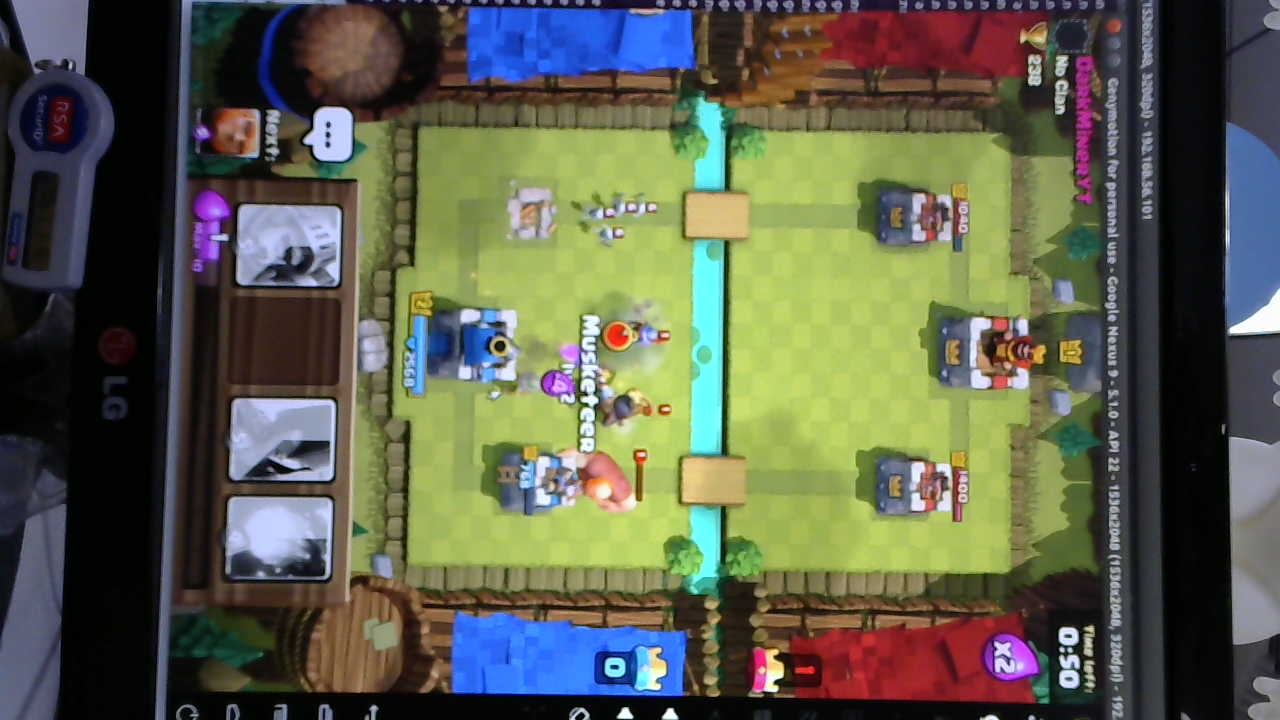arena: (503, 446, 580, 511)
darena: (505, 185, 560, 243)
earena: (876, 455, 954, 519), (875, 187, 957, 247)
eking: (939, 313, 1038, 394)
giant: (561, 444, 637, 516)
king: (433, 306, 524, 393)
musketeer: (627, 318, 664, 349)
prince: (593, 377, 651, 435)
skeleton: (586, 197, 664, 241)
